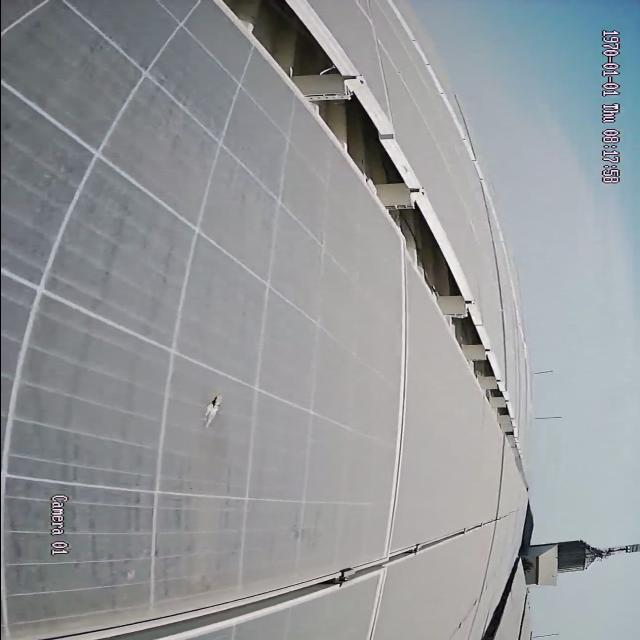interior panel: (31, 259, 510, 638)
outher panel: (215, 3, 520, 453), (475, 563, 516, 639)
